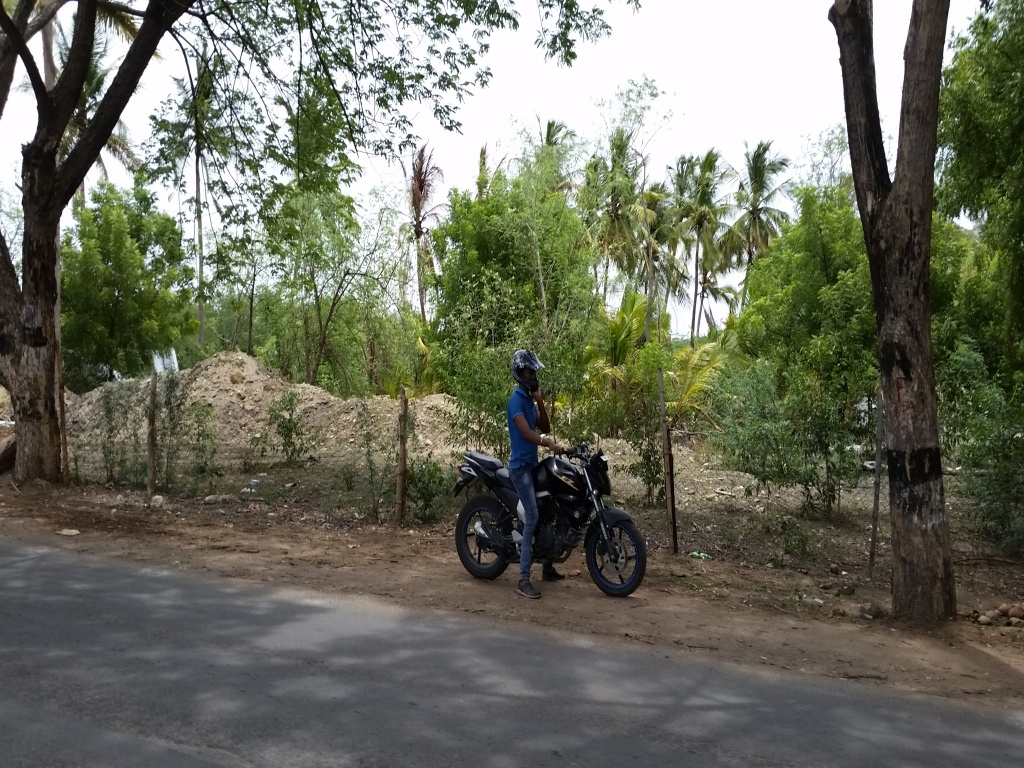biker: (433, 323, 667, 609)
helmet: (508, 338, 553, 412)
